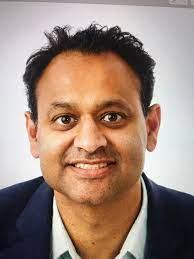Persons: (20, 26, 168, 207)
